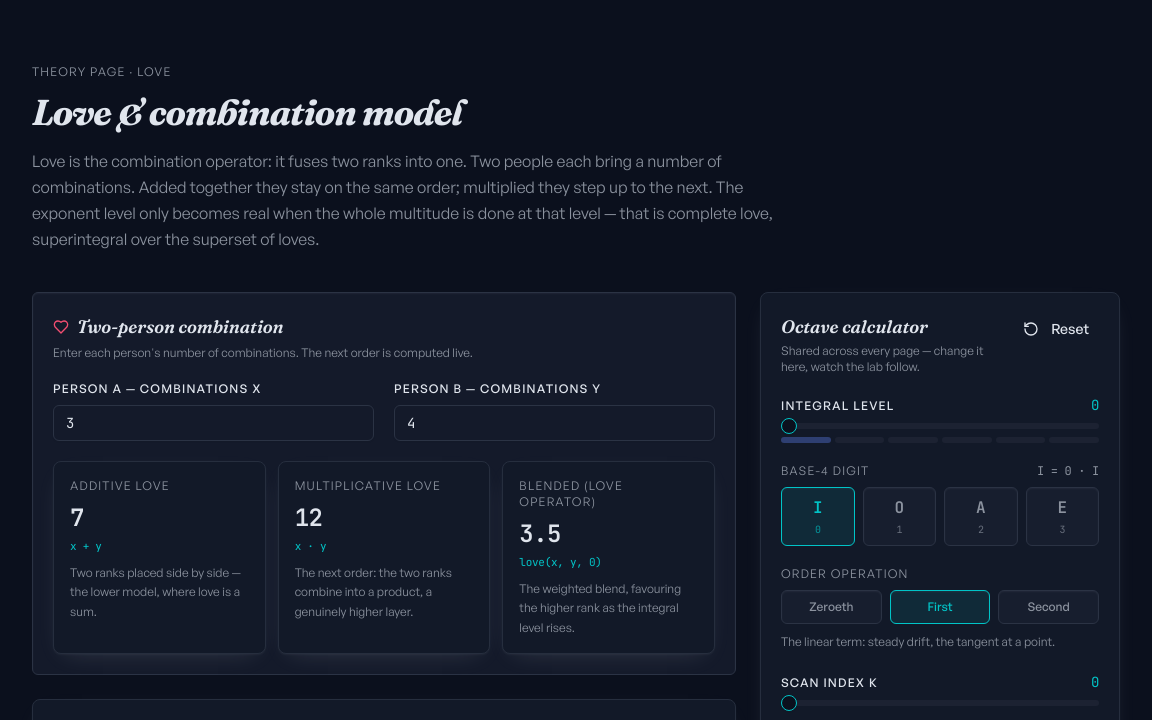
Scenario: LovePage › clamps inputs into the accepted 0..99 range
Replace the text in the number field with test id "love.y_input" with "500" at (554, 423), box left=394, top=405, right=715, bottom=441
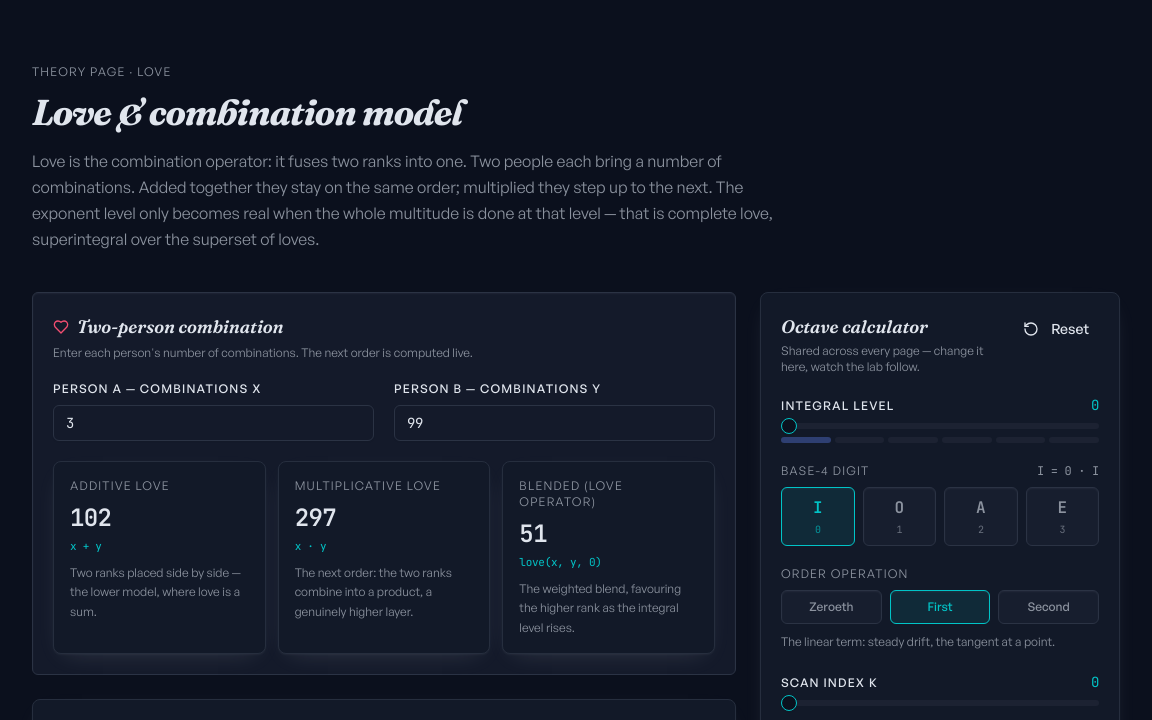
Check: the element with test id "love.result.2" shows "297", box left=295, top=502, right=336, bottom=533
